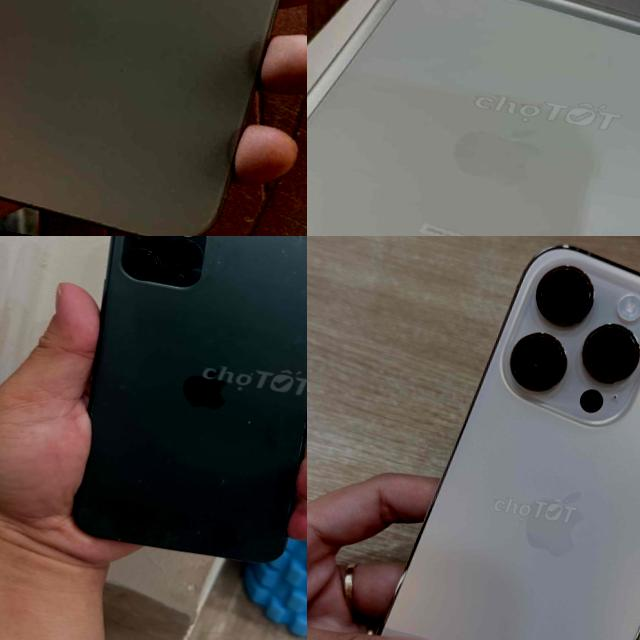gen_11: (42, 236, 307, 600)
gen_14: (349, 236, 640, 640)
gen_16: (0, 0, 278, 236)
gen_17: (307, 0, 640, 236)
scratch: (258, 236, 307, 280), (185, 522, 222, 548), (237, 412, 260, 437), (211, 259, 228, 278)
